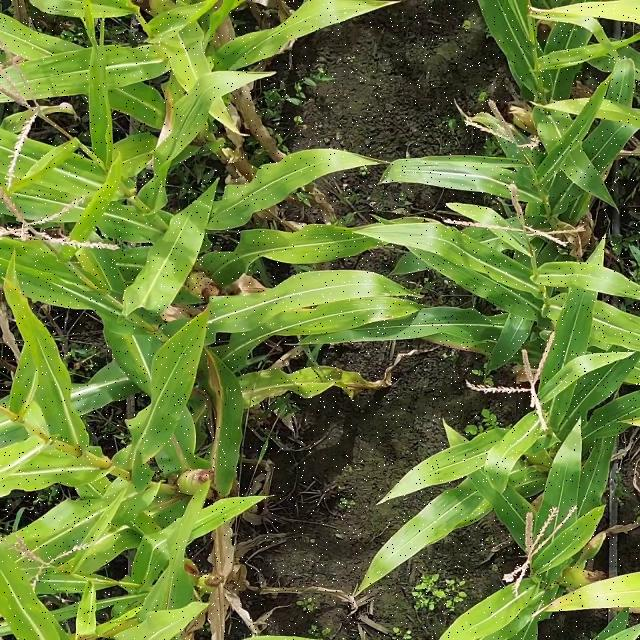northern-leaf-blight: (242, 368, 384, 406), (156, 92, 182, 166)
